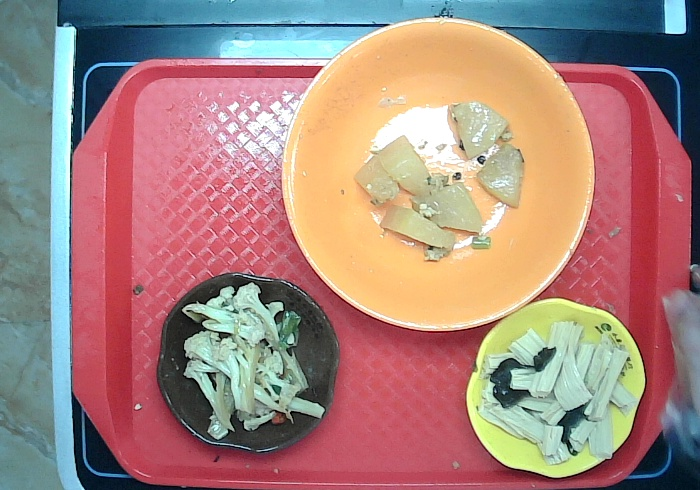YKMZ-Huang_Se_Ao_Bian_Wan: (460, 289, 649, 484)
YKMZ-Ju_Se_Tang_Wan: (281, 13, 602, 335)
YKMZ-Ka_Fei_Ao_Bian_Wan: (150, 267, 342, 456)
